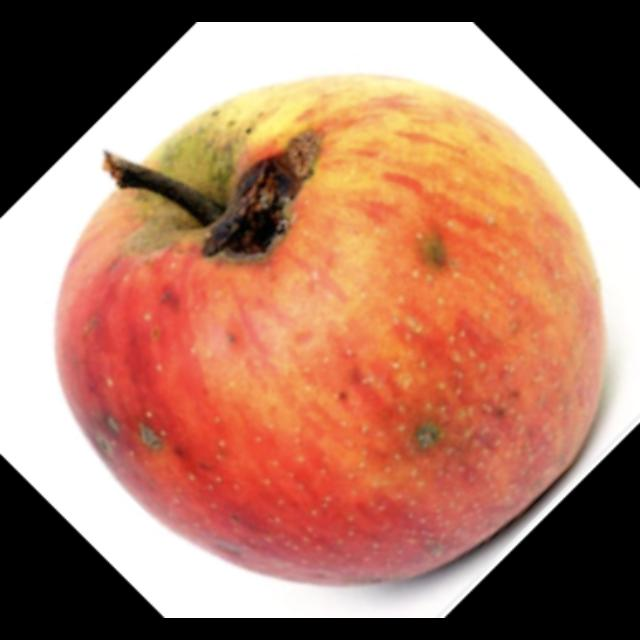Apel Tidak Segar: (57, 76, 603, 586)
